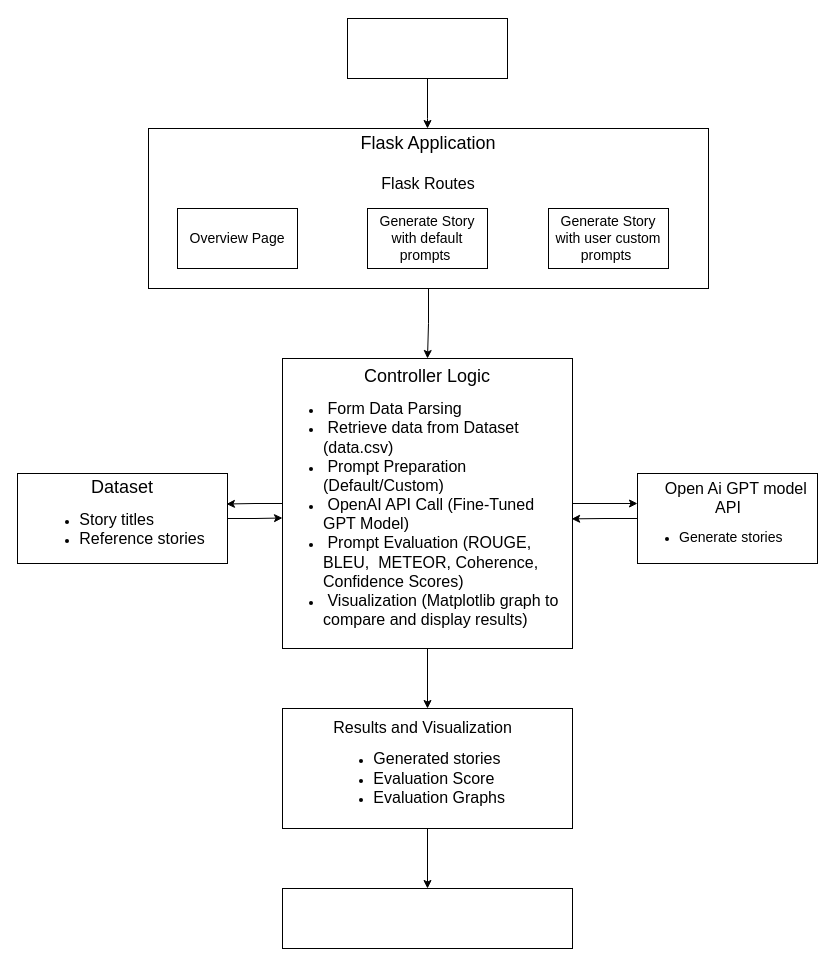
Some shapes in this 835 by 966 pixel diagram are drawn without their labels. Each missing label, with the centre of its shape:
"Client Response (Rendered HTML with Data)" goes at (427,918).
"Client UI (HTML Forms and Pages)" goes at (427,48).
